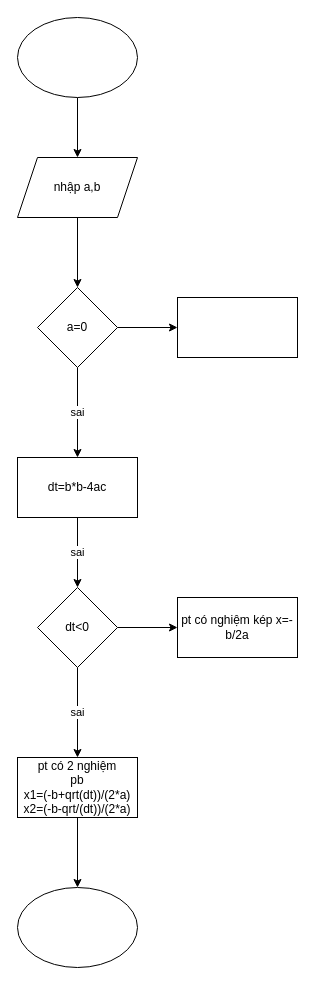
The diagram is 315 pixels wide and 985 high, and some of its shapes have lost their labels. Each missing label, with the centre of its shape:
"Bắt đầu" belongs at pixel 77 57.
"Kết thúc" belongs at pixel 77 927.
"pt bậc 1" belongs at pixel 237 327.
